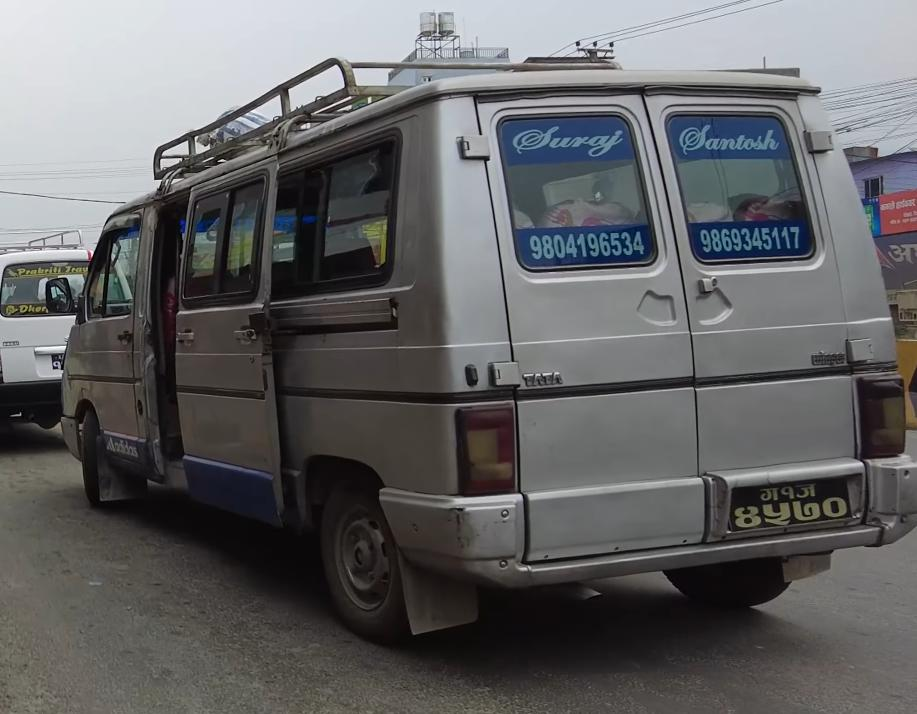micro_bus: (48, 58, 917, 638)
